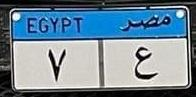7: (46, 46, 68, 82)
ain: (130, 43, 158, 81)
